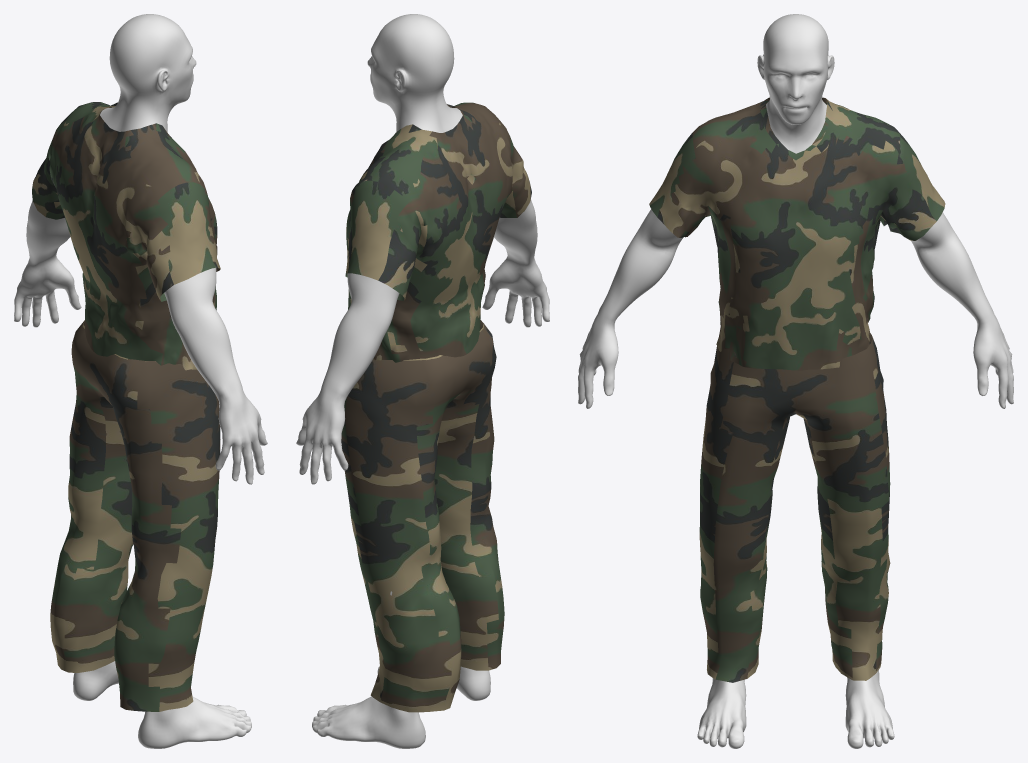
File: rok.dae
3 renders of one model, left to right at view 1: azimuth 30°, elevation 25°; view 2: azimuth 150°, elevation 25°; view 3: azimuth 270°, elevation 25°, orthographic.
Parts seen in each view (by area): view 1: man_basic_poseC_base, Male_flamingSkull_shirt.001, Male; view 2: man_basic_poseC_base, Male_flamingSkull_shirt.001, Male; view 3: Male_flamingSkull_shirt.001, man_basic_poseC_base, Male.
Boxes of the visible parts, left/top/right/bottom form: man_basic_poseC_base: left=50, top=320, right=220, bottom=711; Male_flamingSkull_shirt.001: left=32, top=102, right=220, bottom=370; Male: left=14, top=14, right=267, bottom=748; man_basic_poseC_base: left=341, top=320, right=504, bottom=712; Male_flamingSkull_shirt.001: left=345, top=102, right=531, bottom=362; Male: left=296, top=14, right=549, bottom=748; Male_flamingSkull_shirt.001: left=649, top=97, right=945, bottom=370; man_basic_poseC_base: left=699, top=333, right=890, bottom=682; Male: left=578, top=14, right=1013, bottom=748.
Bounding box in the file's own units: 4.26 × 11.69 × 20.74.
Materials: 2 (2 with a texture image).
